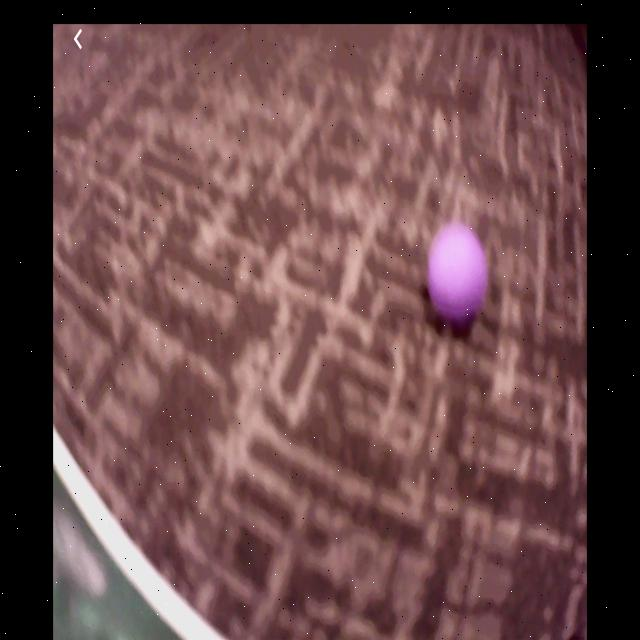ball: (429, 227, 486, 317)
